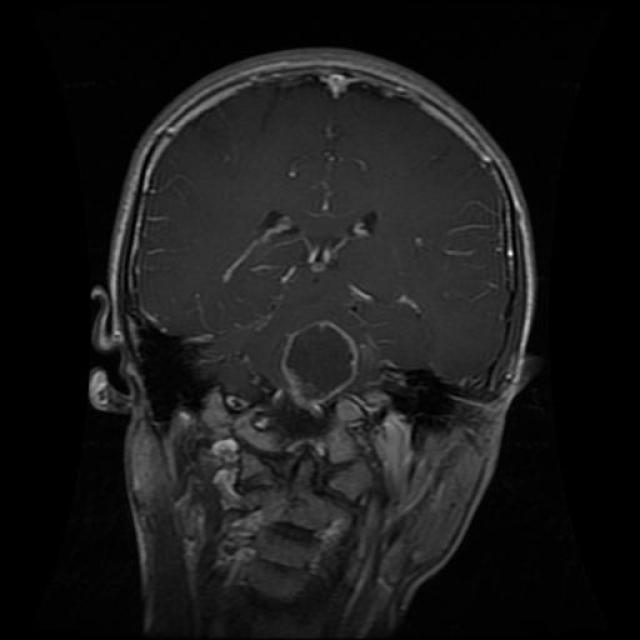glioma: (277, 314, 363, 410)
